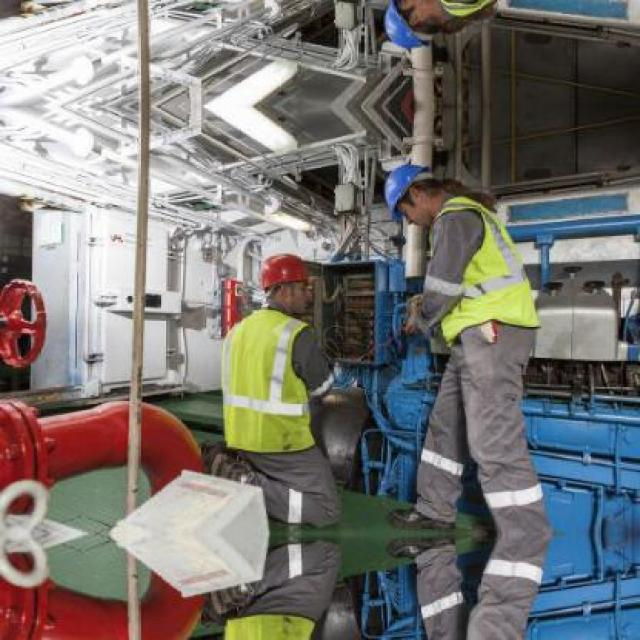Reflective-Jacket: (415, 193, 551, 350), (208, 306, 329, 464), (380, 0, 518, 43)
Safety-Helmet: (374, 156, 438, 219), (251, 247, 318, 299)
